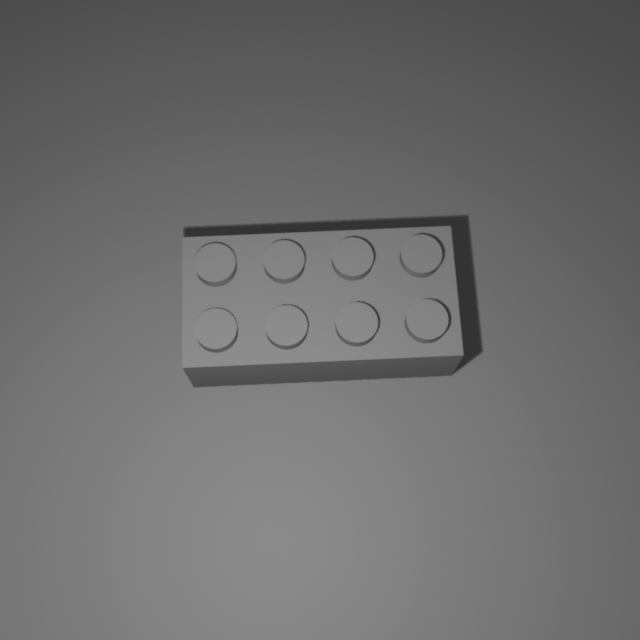lego_2x4: (180, 220, 466, 387)
